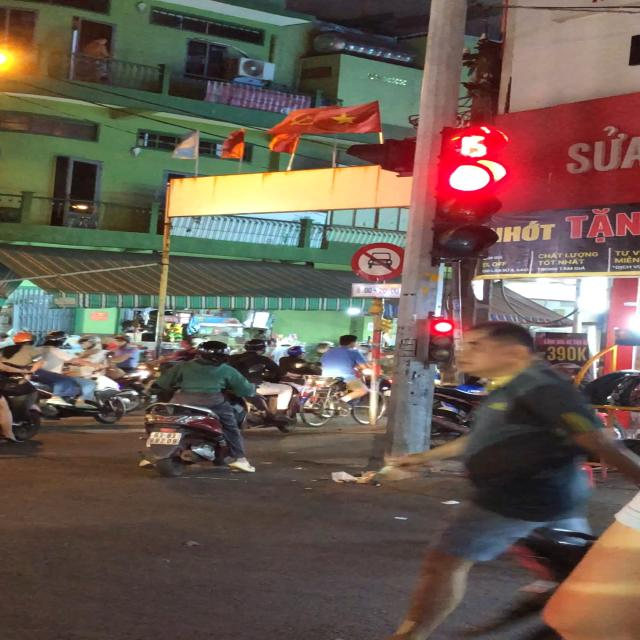Bien bao cam xe oto: (349, 241, 412, 286)
